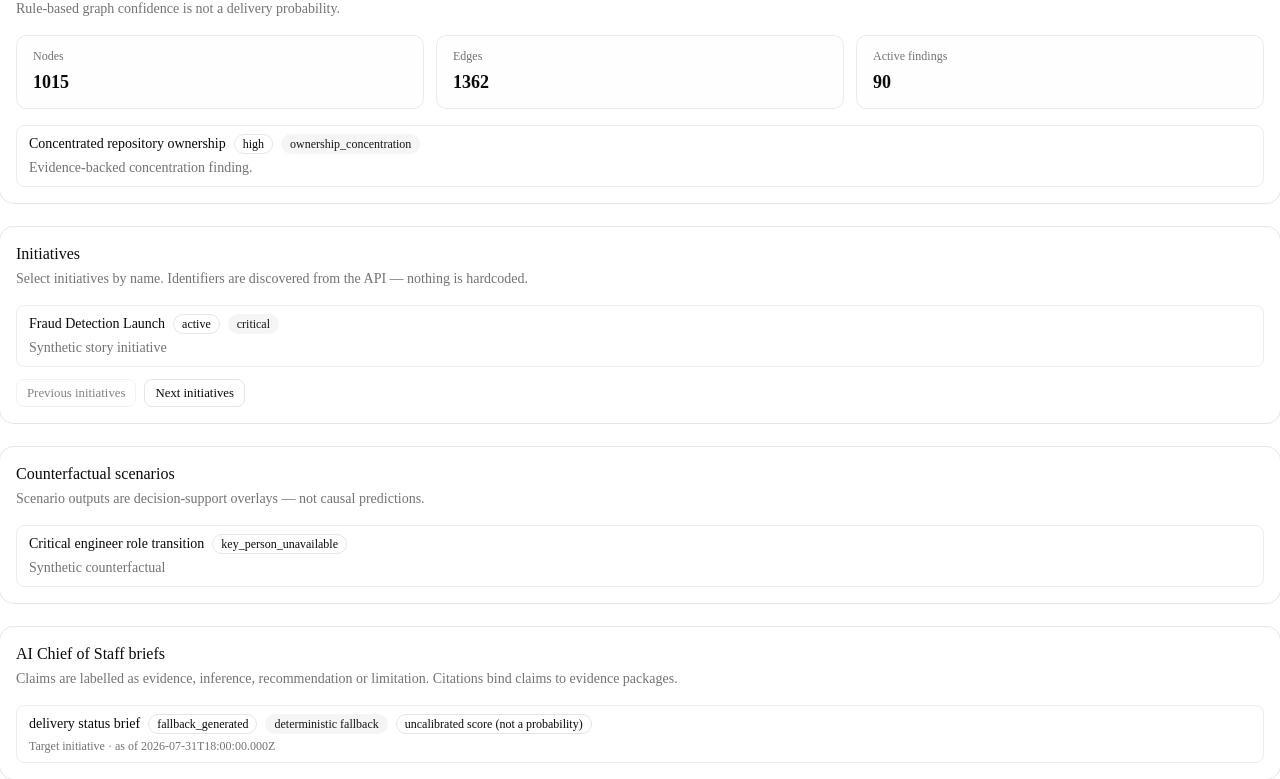
it: ExecutiveBriefingPanel › renders portfolio, synthetic label, scenarios and brief evidence
This screenshot has width=1280, height=779.
(page scrolled)
Check: the text "Fraud Detection Launch" is shown, box [29,314,165,334]
Check: the text "Concentrated repository ownership" is shown, box [29,134,226,154]
Click the button with test id "scenario-select" at (117, 544), box [16,525,1264,587]
(page scrolled)
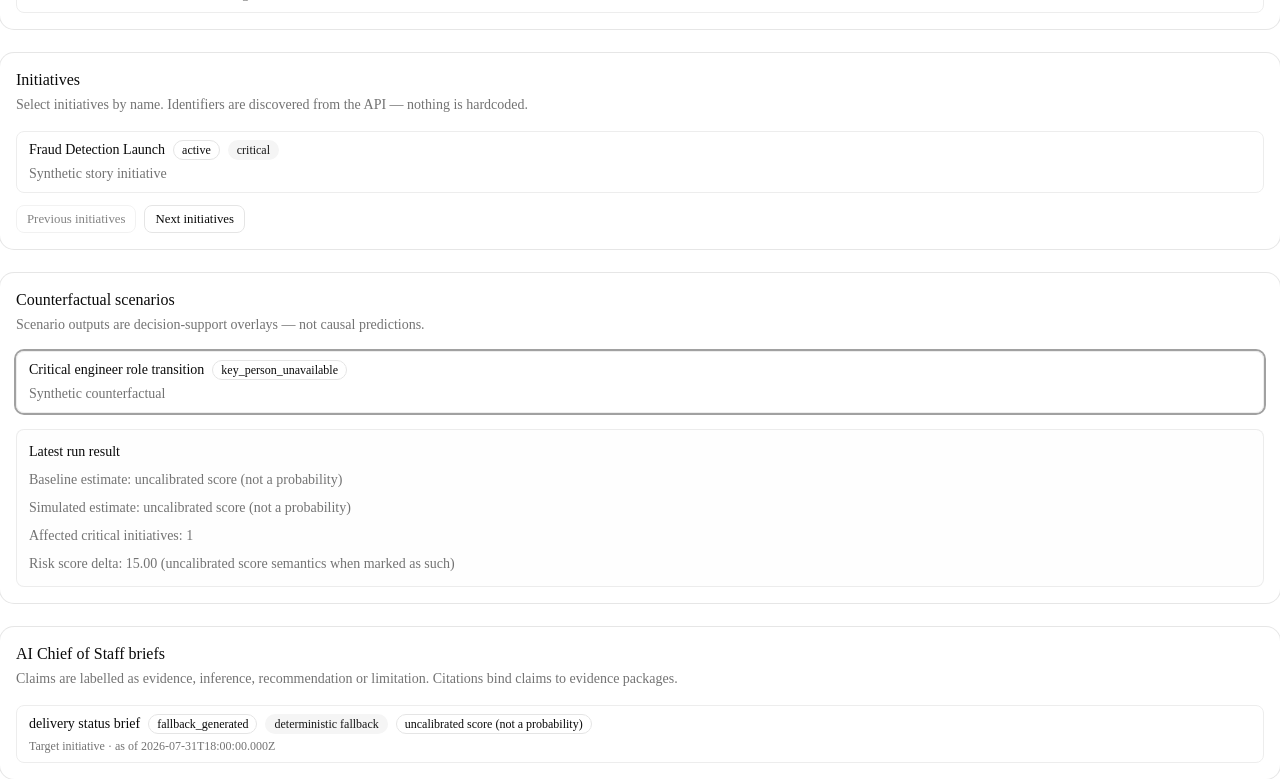
Check: the element with test id "scenario-detail" is shown, box [16,429,1264,587]
Check: the text "Baseline estimate: uncalibrated score (not a probability)" is shown, box [29,472,342,487]
Click the button with test id "brief-select" at (85, 724), box [16,705,1264,763]
(page scrolled)
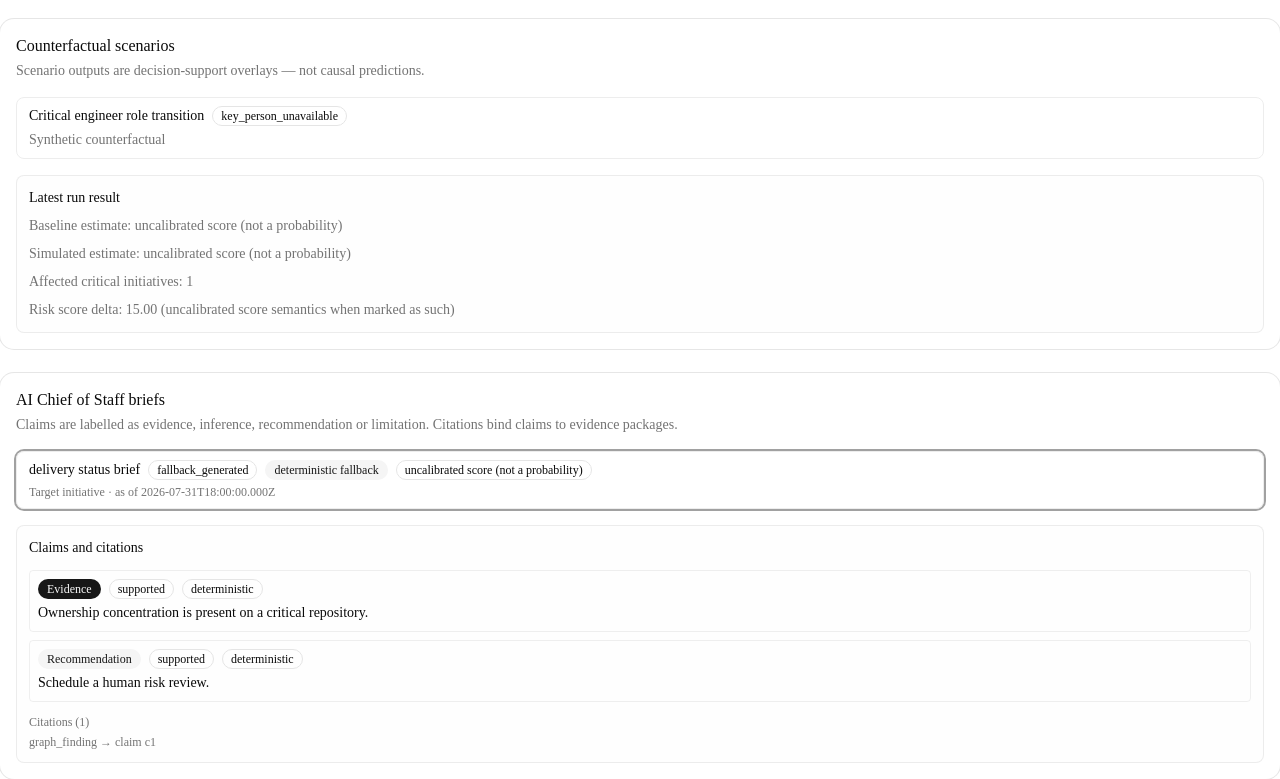
Check: the element with test id "brief-detail" is shown, box [16,525,1264,763]
Check: the text "Evidence" is shown, box [38,579,101,599]
Check: the text "Recommendation" is shown, box [38,649,141,669]
